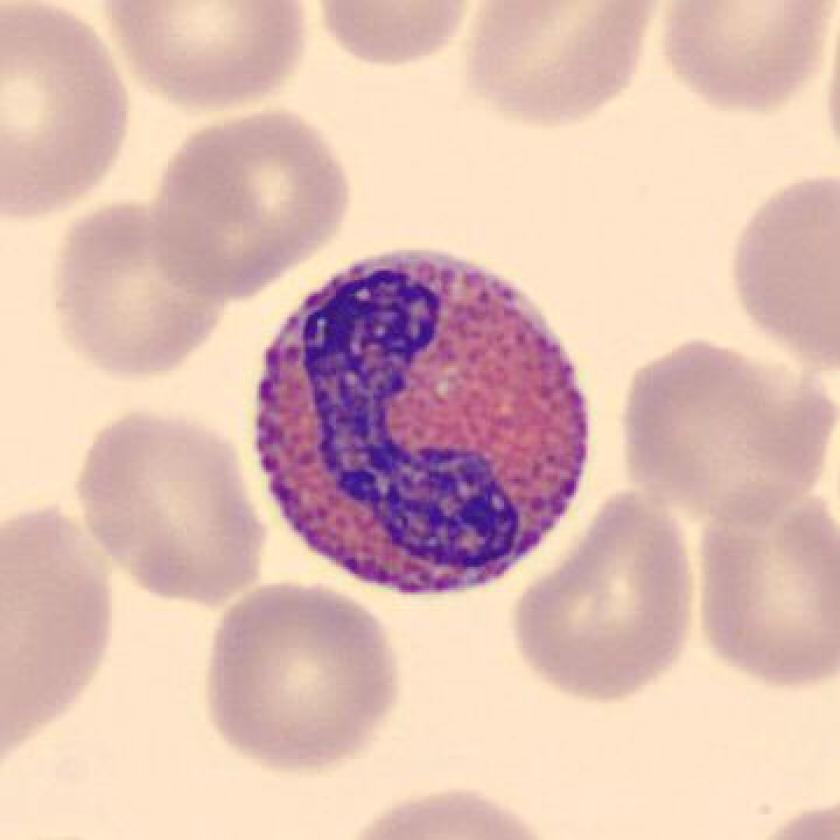eosinophil: (246, 230, 603, 612)
